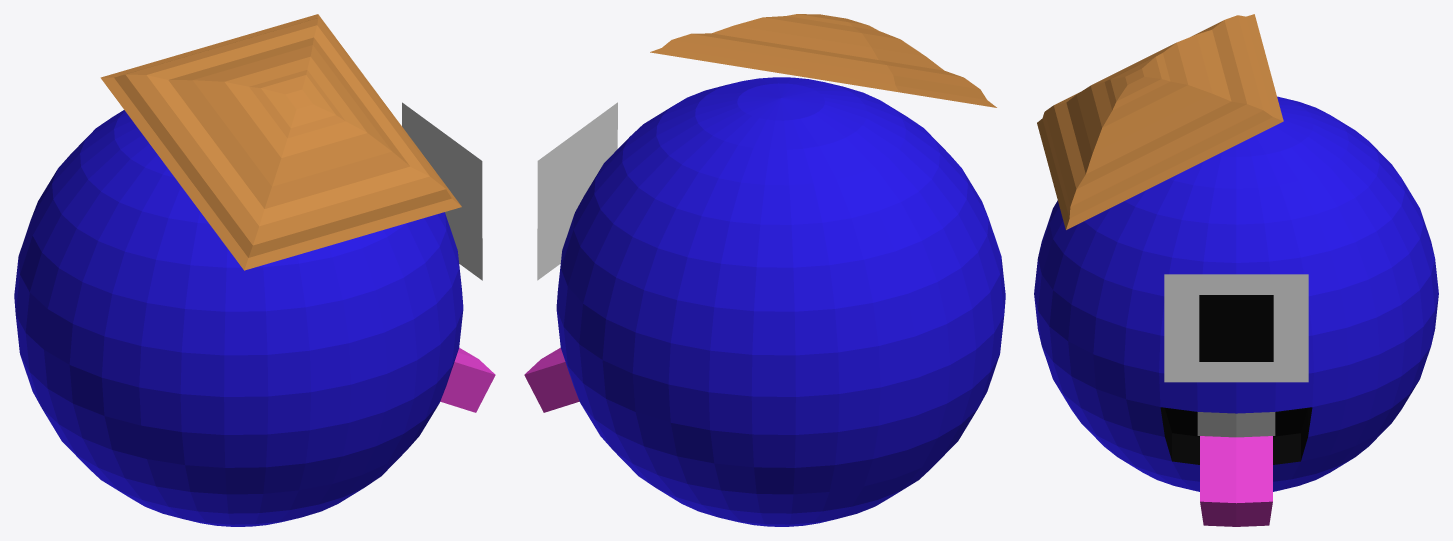
File: Nerd.Blue.fbx
The picture shows the model from 3 angles, left to right: view 1: azimuth 30°, elevation 25°; view 2: azimuth 150°, elevation 25°; view 3: azimuth 270°, elevation 25°; orthographic projection. The views are drawn at different scales.
Parts seen in each view (by area): view 1: Sphere; view 2: Sphere; view 3: Sphere.
Part boxes in pixels (x1=…): Sphere: x1=14, y1=14, x2=495, y2=526; Sphere: x1=524, y1=14, x2=1005, y2=526; Sphere: x1=1034, y1=14, x2=1438, y2=526.
Size of the model in its own units: 431 by 436 by 387.
